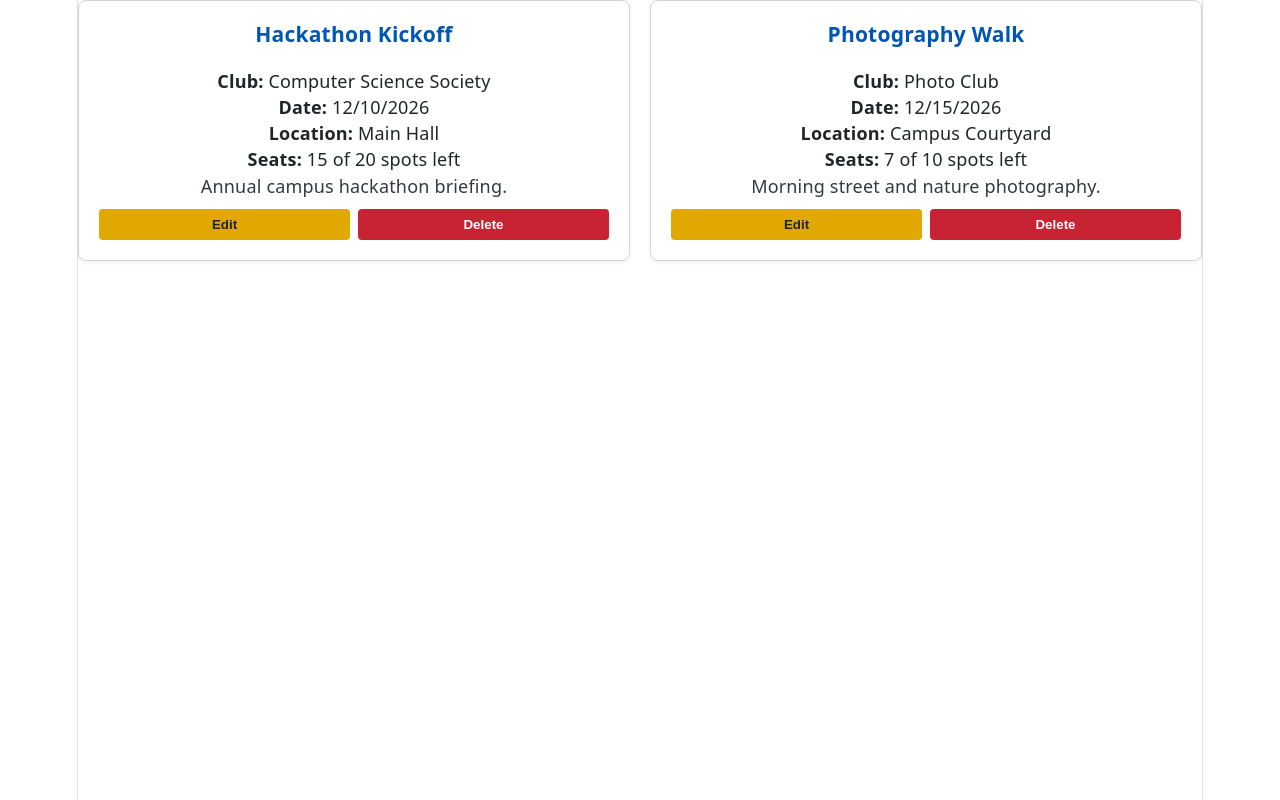
Test: EventList component › opens inline edit form, saves changes via onEditEvent, and closes the form
Click the button "Edit" below "Annual campus hackathon briefing.".
click(224, 224)  # box x1=99 y1=209 x2=350 y2=240
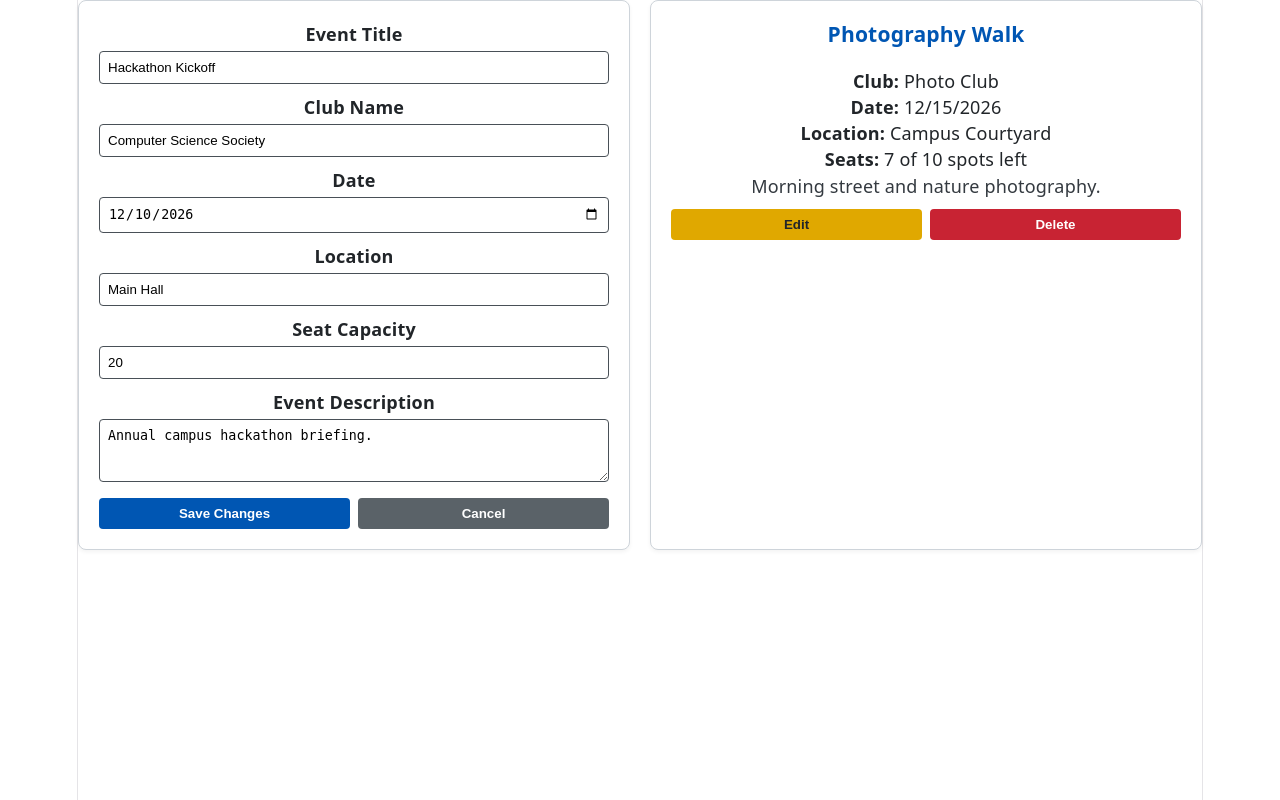
Expected: the field with placeholder "Event Title" holds "Hackathon Kickoff"
Expected: the number field with placeholder "Seat Capacity" holds "20", x1=99 y1=346 x2=609 y2=379
Replace the text in the field with placeholder "Event Title" with "Hackathon Kickoff v2" at (354, 68), box x1=99 y1=51 x2=609 y2=84
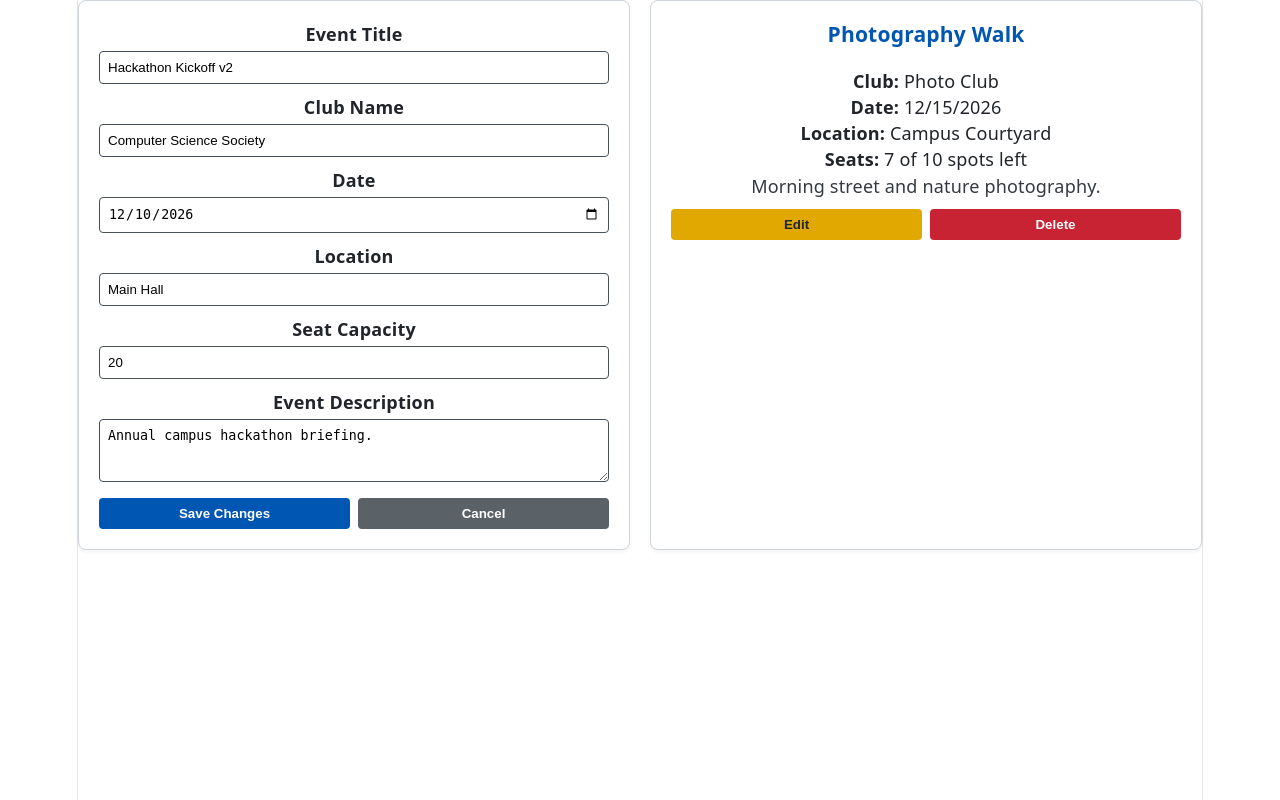
Replace the text in the number field with placeholder "Seat Capacity" with "30" at (354, 362), box x1=99 y1=346 x2=609 y2=379
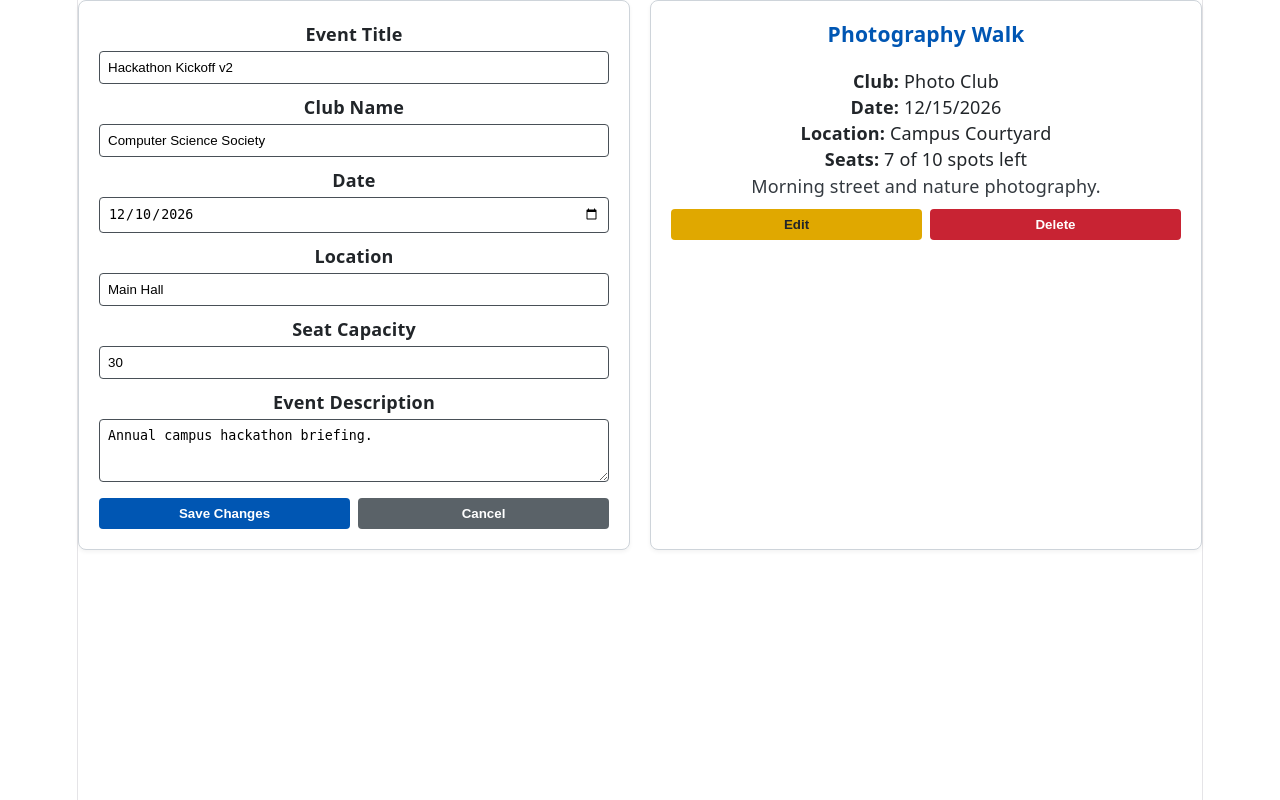
Click the button "Save Changes".
click(224, 514)  # box x1=99 y1=498 x2=350 y2=529
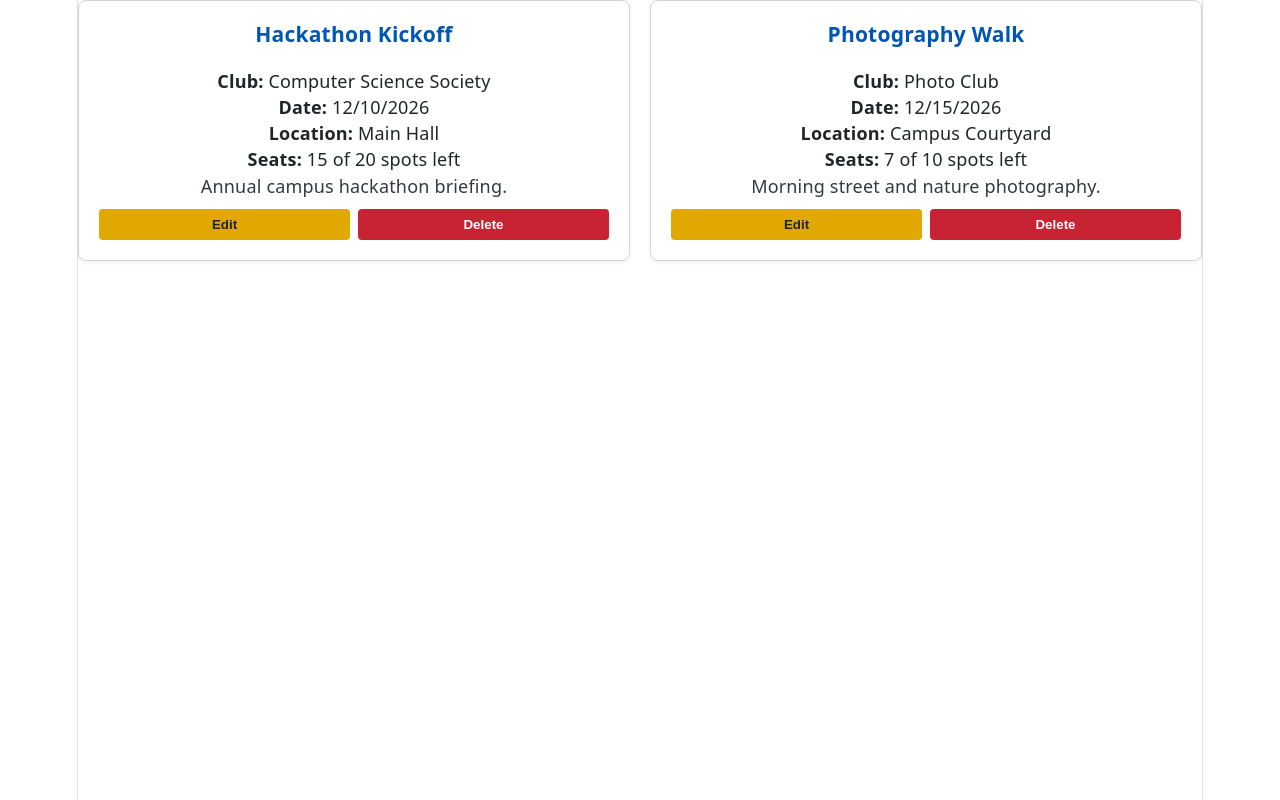
Expected: the button "Save Changes" is gone
